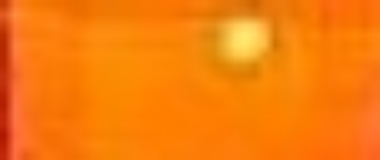Hotspot: (214, 13, 276, 69)
